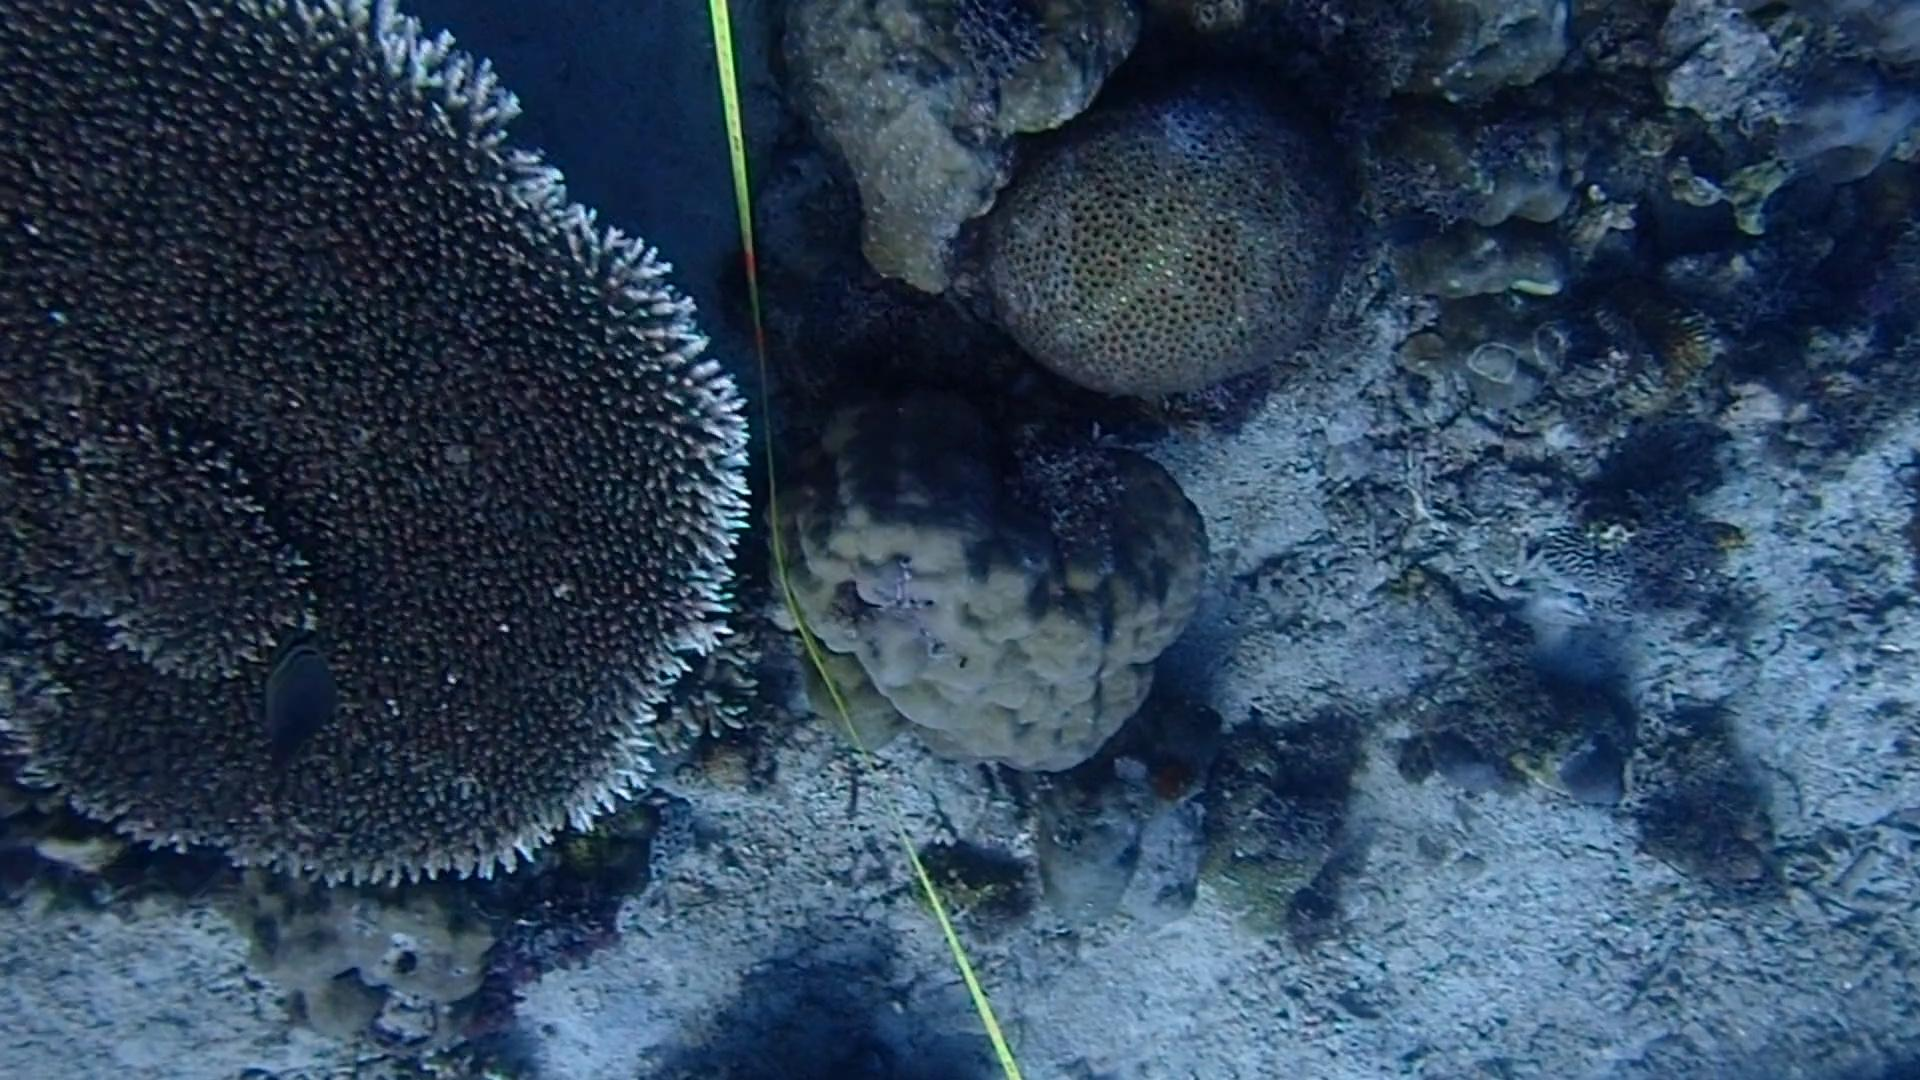Dark Blue Dory: (225, 646, 348, 804)
Light Fish: (1370, 198, 1461, 260)
